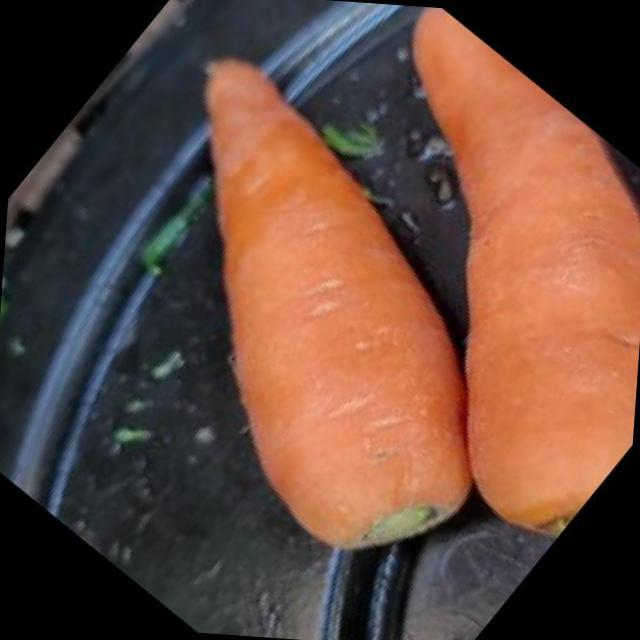carrot: (0, 12, 622, 626), (162, 0, 640, 565)
